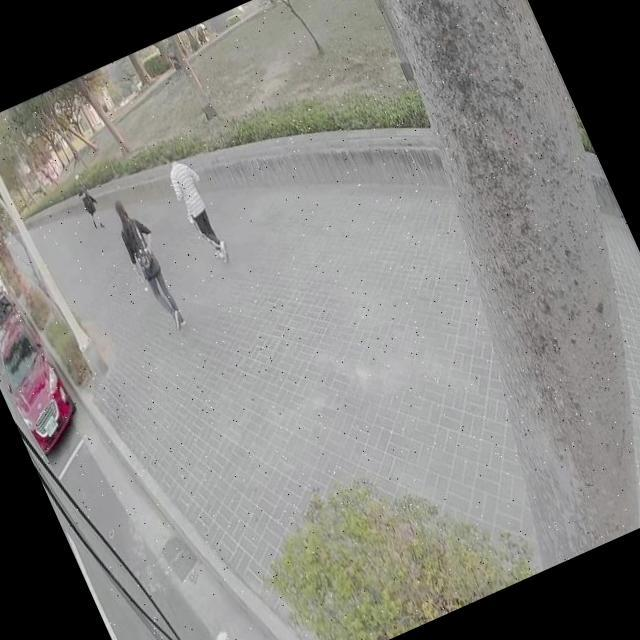person: (109, 193, 196, 339), (158, 142, 232, 266), (72, 171, 105, 229)
